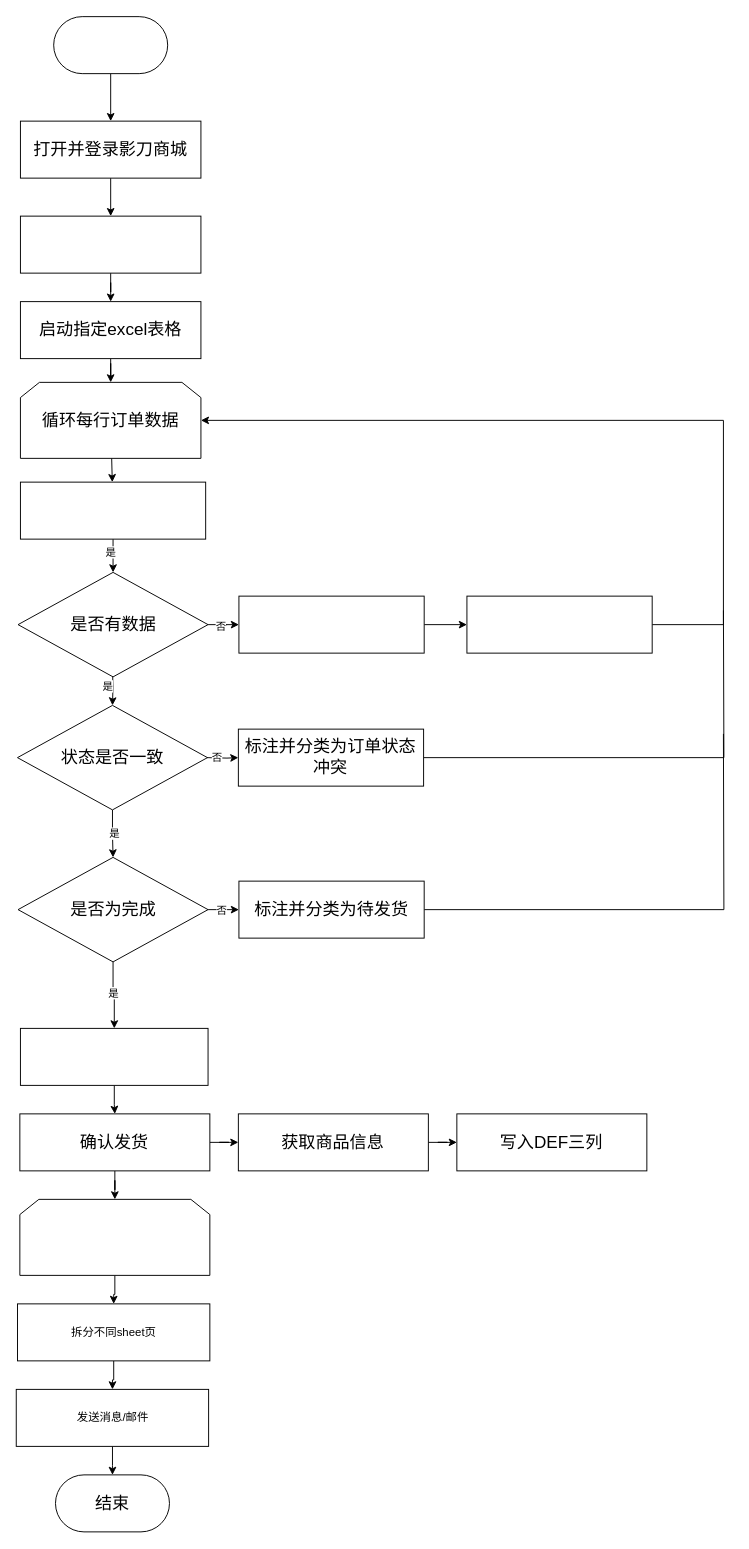
This 749x1549 diagram has some shape labels left out. The centre of each missing label's shape, as x and y in pixels:
"关闭通知并跳转至订单管理" belongs at (110,244).
"开始" belongs at (110,45).
"循环结束" belongs at (114,1236).
"查询订单号" belongs at (112,510).
"标注并分类为已发货" belongs at (113,1056).
"标注并分类为订单有误" belongs at (331,624).
"通知业务人员" belongs at (559,624).
